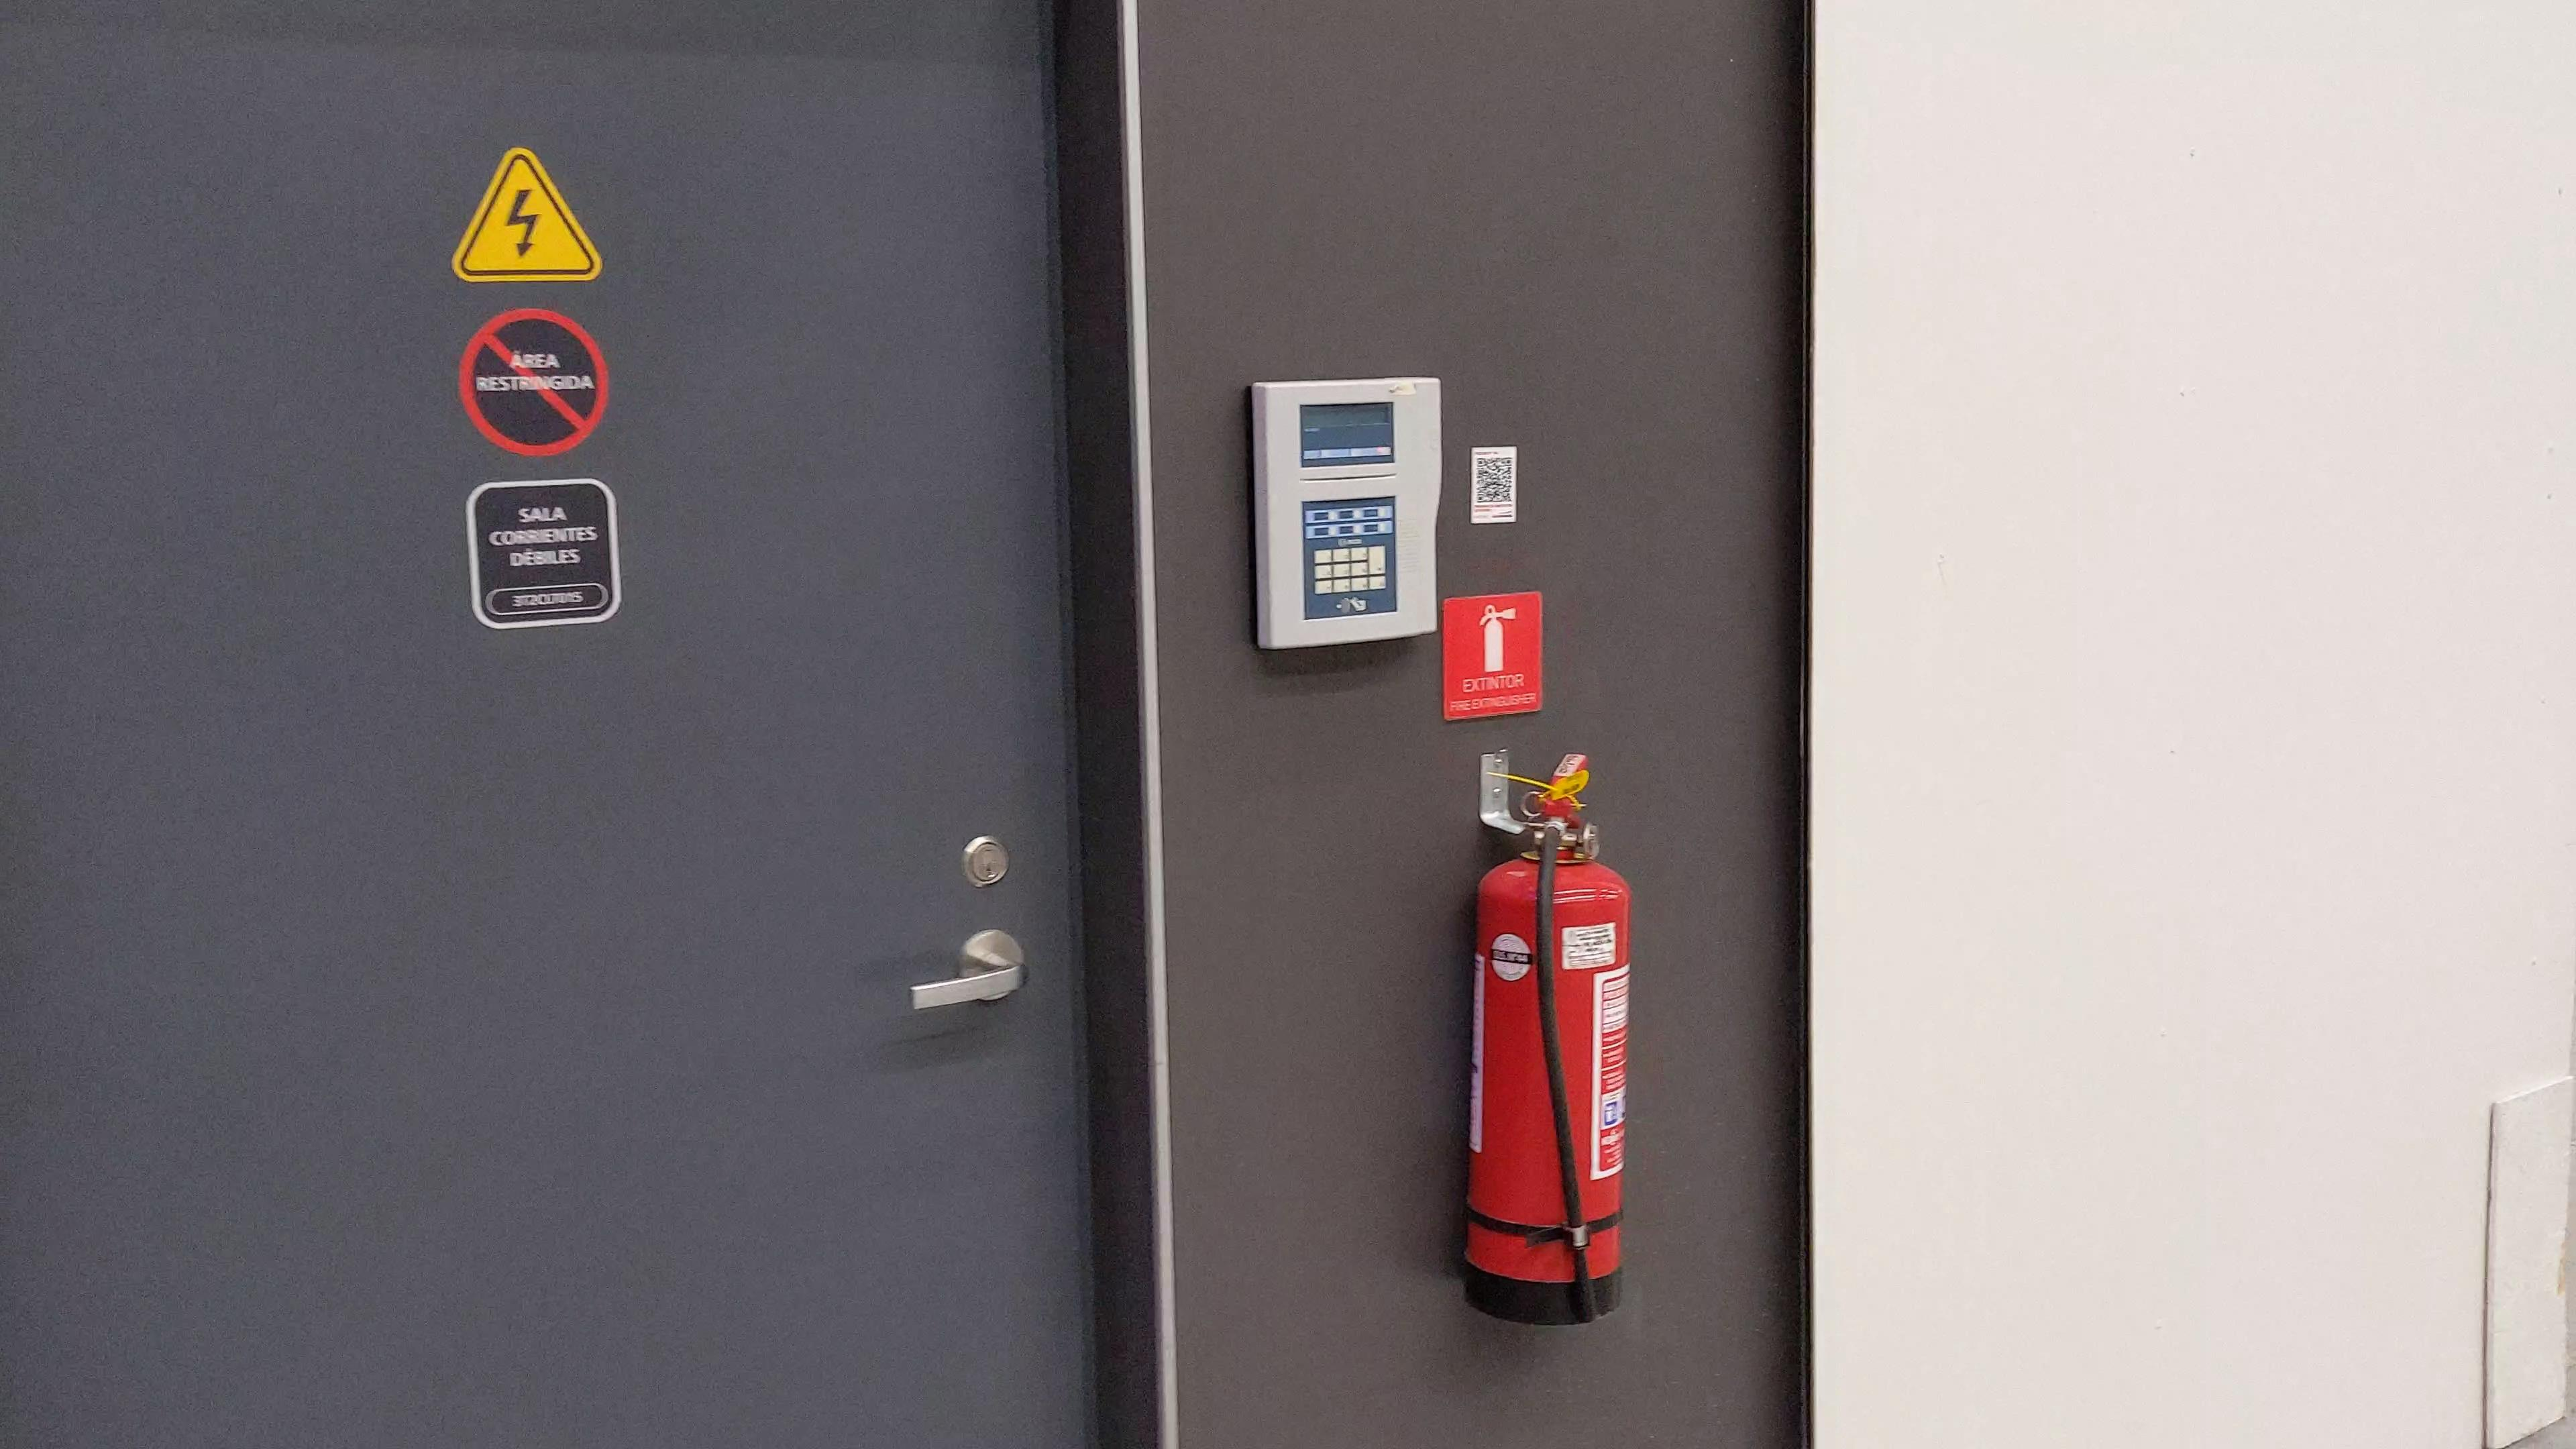danger-electricity: (451, 143, 603, 288)
extinguisher symbol: (1477, 603, 1518, 674)
fire-extinguisher: (1453, 747, 1637, 1327)
